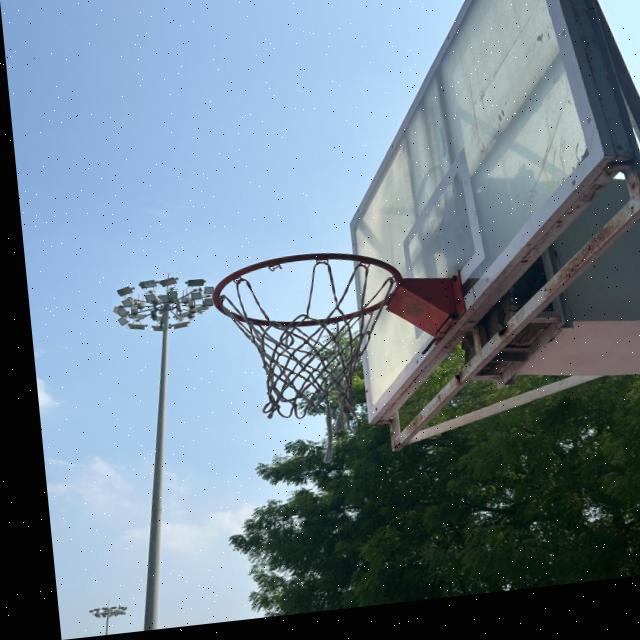hoop: (181, 230, 482, 451)
